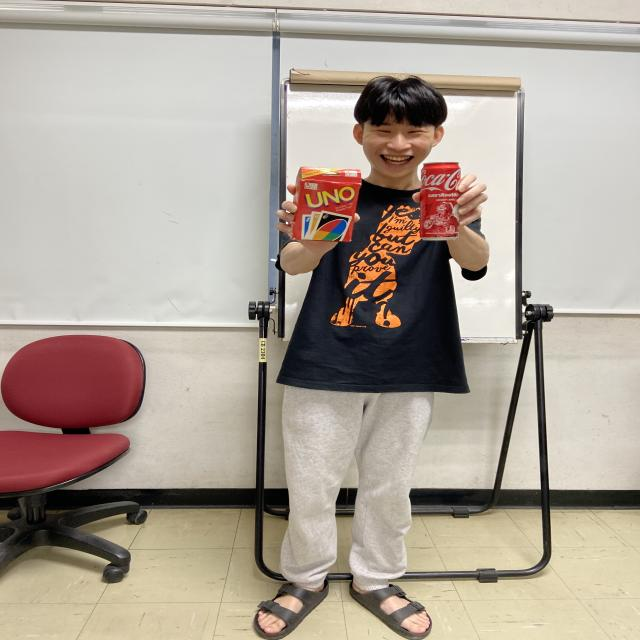can: (418, 162, 462, 242)
